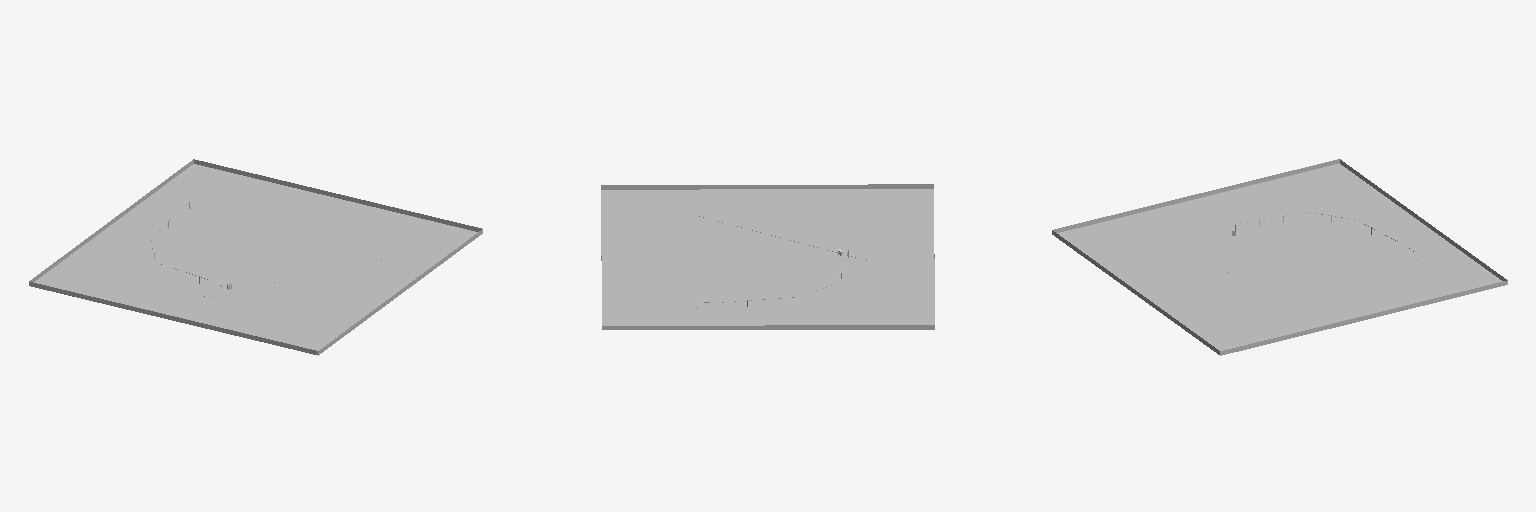
File: SalleFinObjet.obj
3 renders of one model, left to right at view 1: azimuth 30°, elevation 25°; view 2: azimuth 150°, elevation 25°; view 3: azimuth 270°, elevation 25°, orthographic.
Parts seen in each view (by area): view 1: Cube_Cube.001; view 2: Cube_Cube.001; view 3: Cube_Cube.001.
Boxes of the visible parts, x1=… form: Cube_Cube.001: x1=29, y1=159, x2=482, y2=355; Cube_Cube.001: x1=601, y1=184, x2=934, y2=329; Cube_Cube.001: x1=1052, y1=159, x2=1507, y2=355.
Bounding box in the file's own units: 887 × 16.11 × 887.